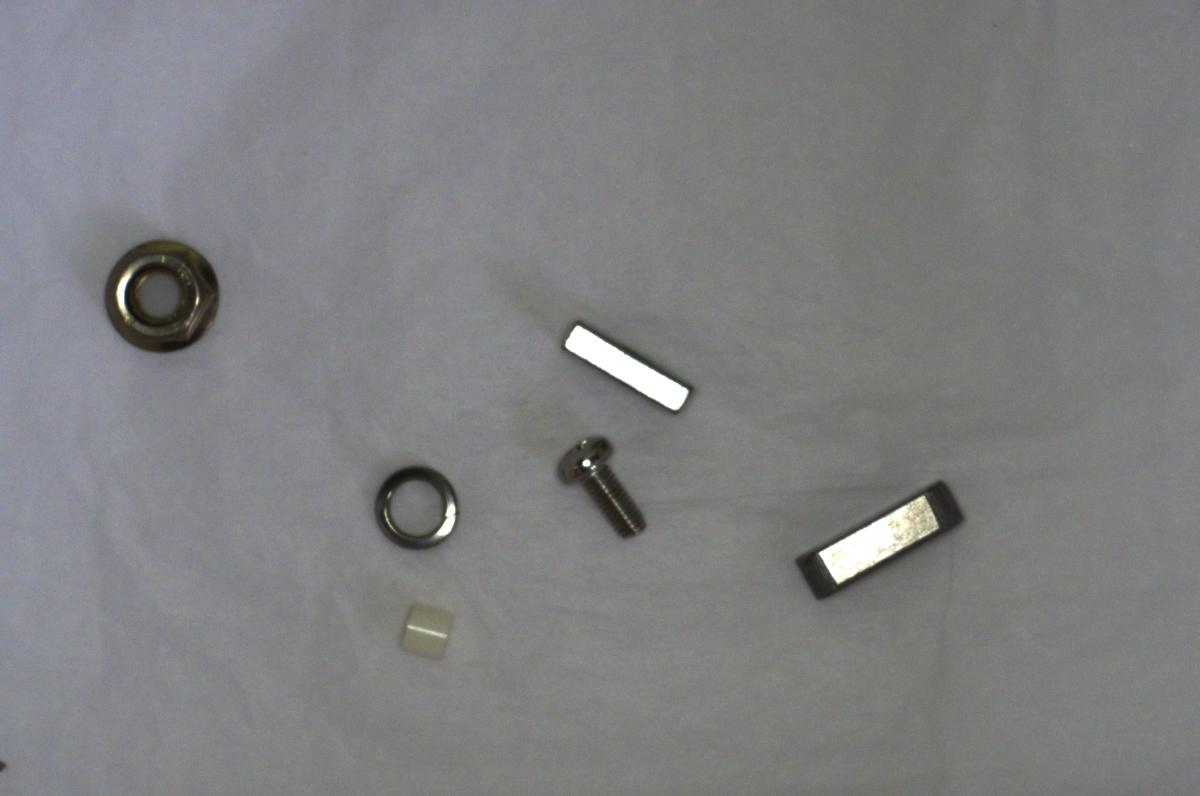Flange nut: (91, 234, 237, 361)
Keybar: (775, 475, 979, 602)
Plastic cushion pillar: (391, 598, 466, 656)
Rectangular nut: (548, 315, 705, 419)
Round head screw: (559, 430, 653, 539)
Spring washer: (362, 459, 465, 558)
